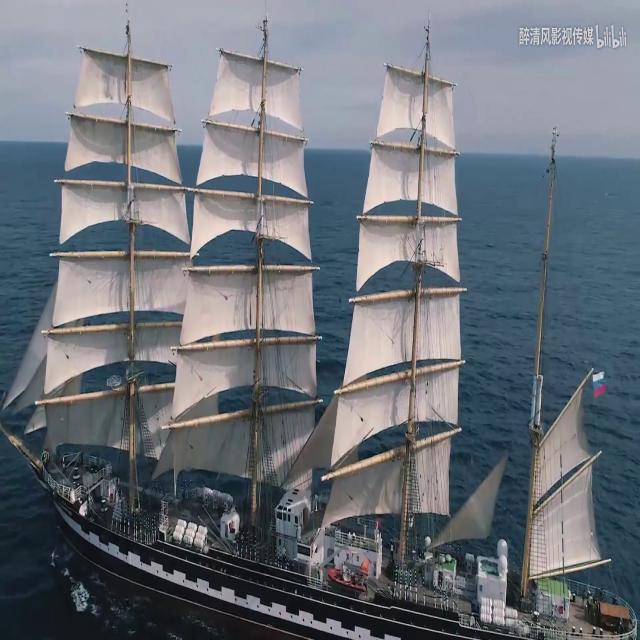sailboat: (6, 15, 638, 640)
